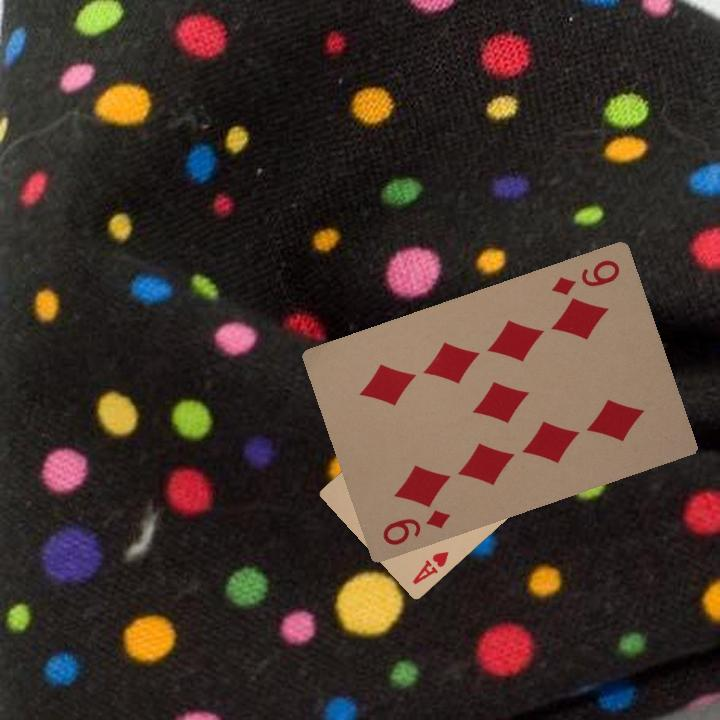9d: (547, 255, 622, 298), (378, 505, 453, 548)
Ah: (408, 547, 451, 587)
